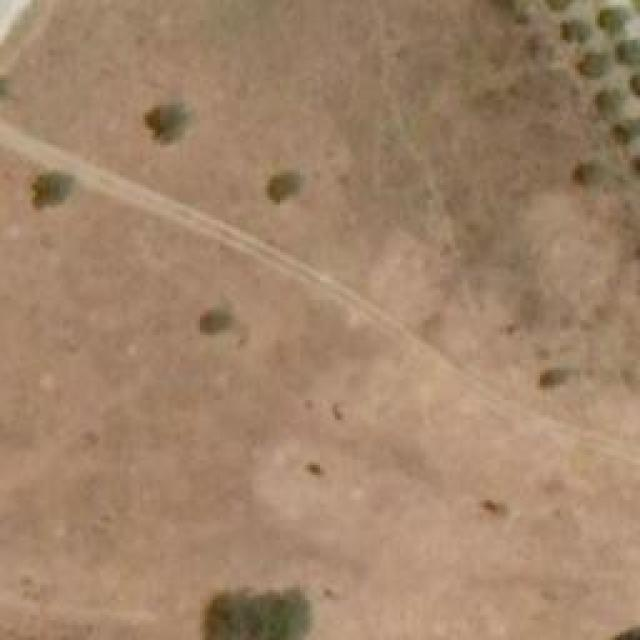Tree: (205, 587, 310, 640), (30, 163, 76, 213), (263, 165, 303, 208), (150, 103, 188, 143), (195, 303, 232, 336), (560, 18, 590, 43), (578, 55, 608, 80), (598, 85, 623, 113), (595, 10, 628, 30), (617, 39, 640, 62), (610, 120, 630, 143), (570, 162, 593, 180)
